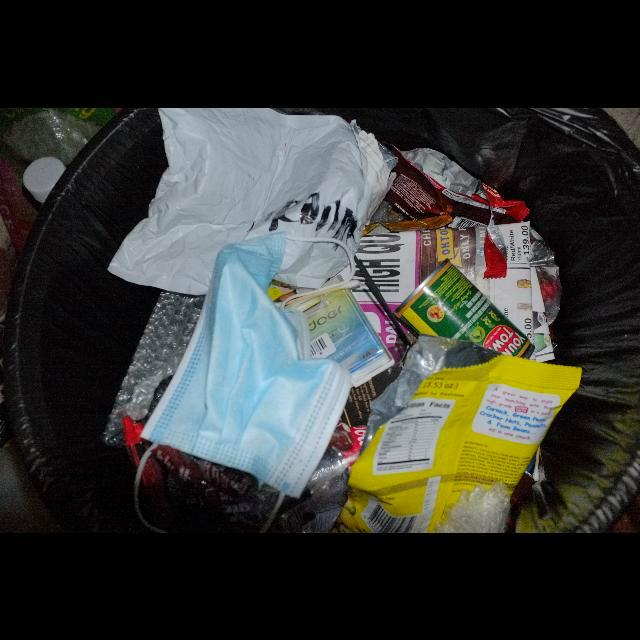aluminum: (395, 258, 534, 358)
food_wrapper: (336, 354, 582, 532), (384, 143, 528, 226)
paper: (337, 223, 555, 366)
plastic_bag: (104, 107, 390, 294)
